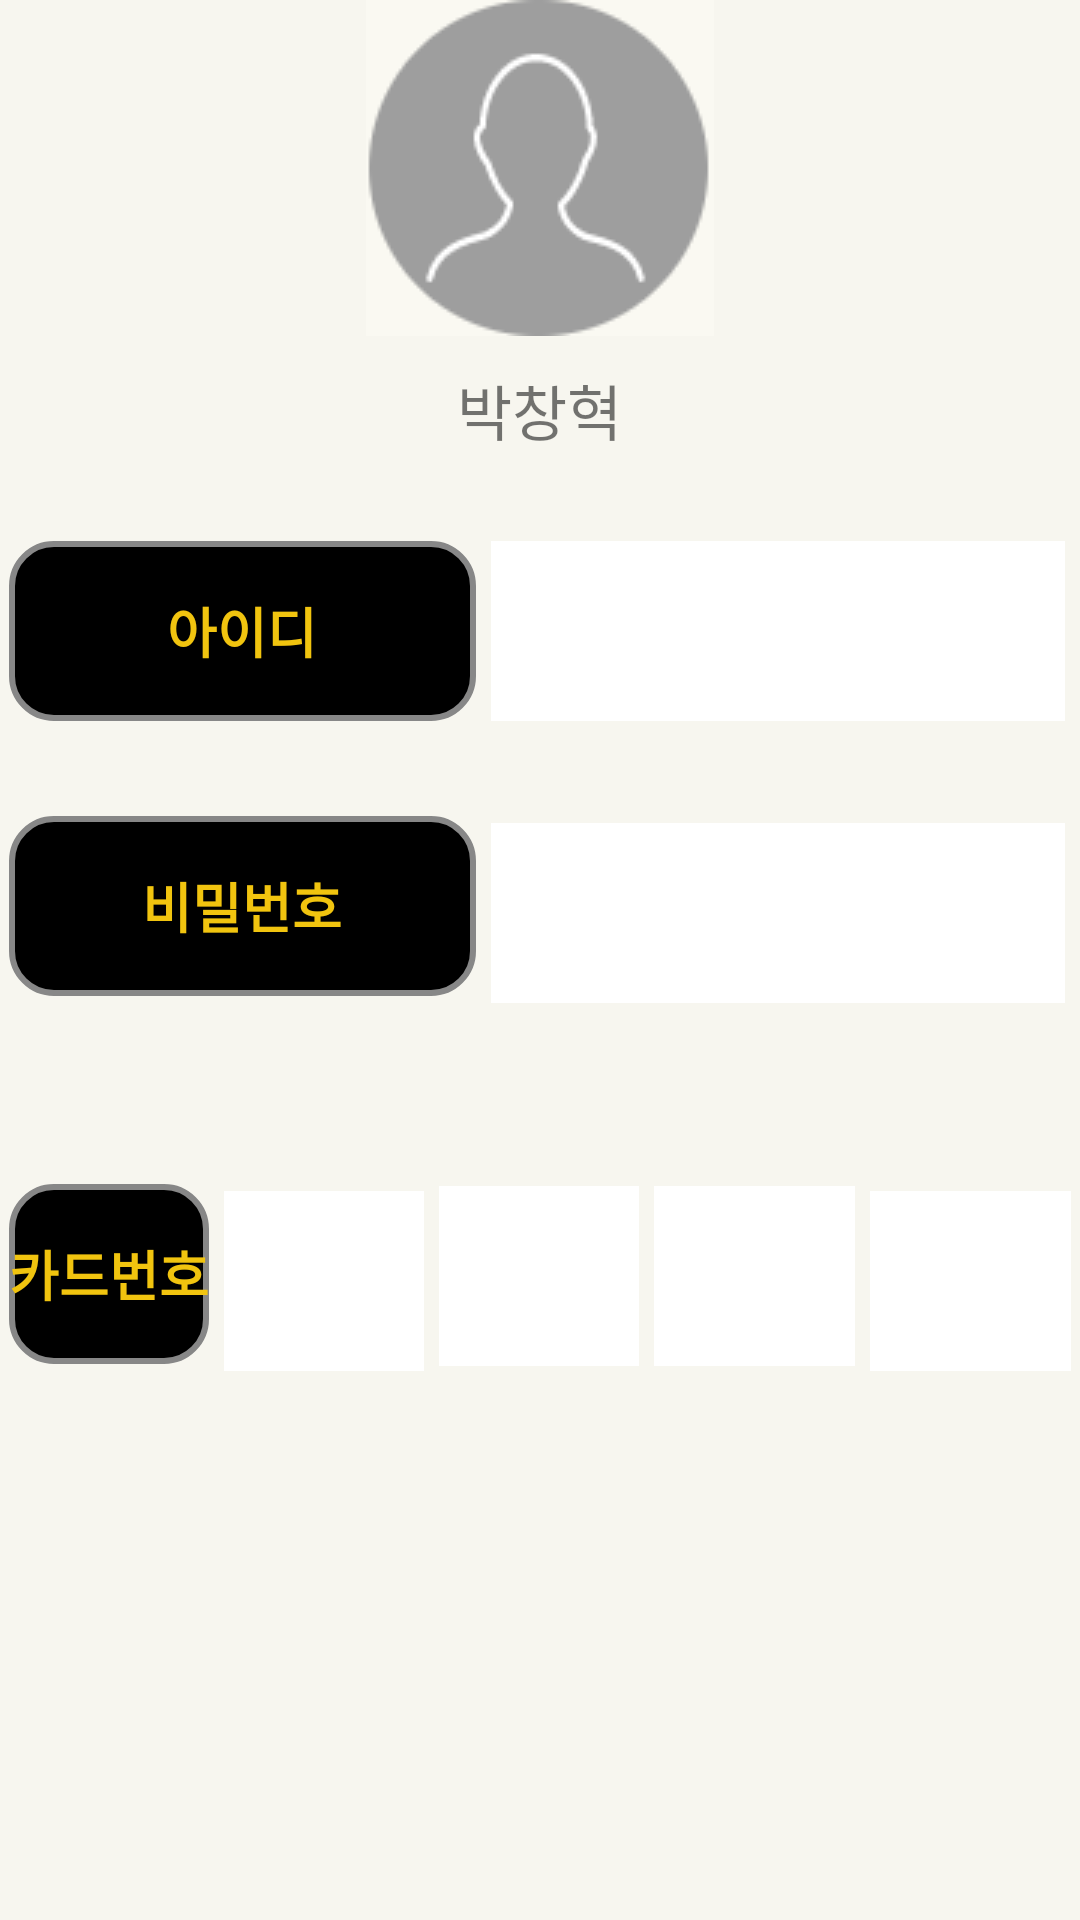

Named icons in this screenshot (1080w x 1920h) and their centers, [x,y]:
user: [538,168]
